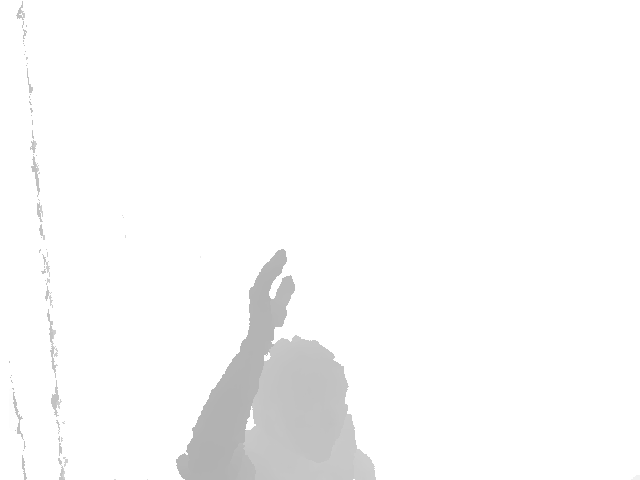hand: (249, 249, 296, 331)
head: (251, 336, 348, 463)
person: (175, 249, 378, 480)
